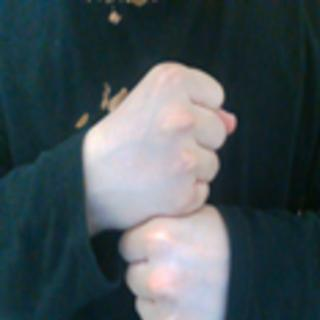CAREFUL: (89, 52, 239, 320)
